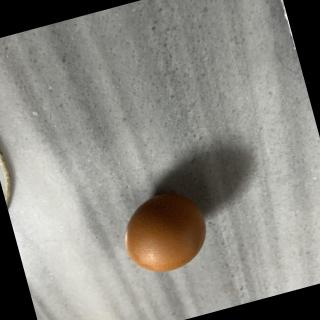Telur: (114, 184, 219, 285)
